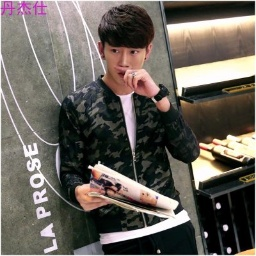face: (96, 5, 154, 87)
